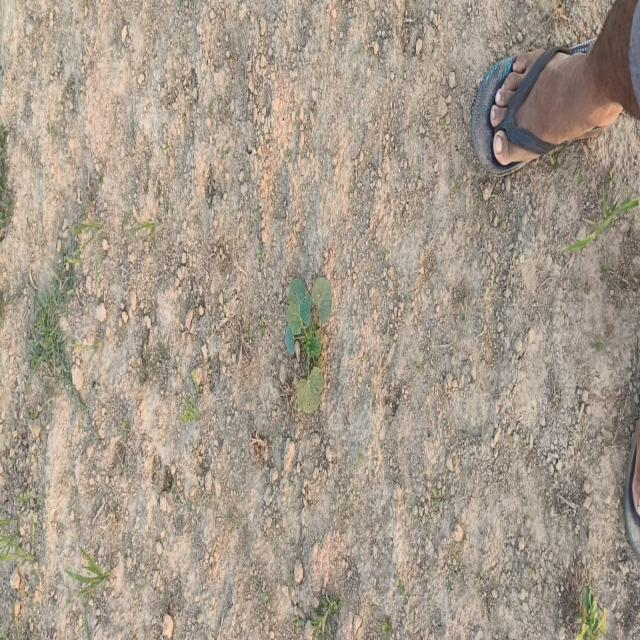plant: (285, 278, 332, 412)
